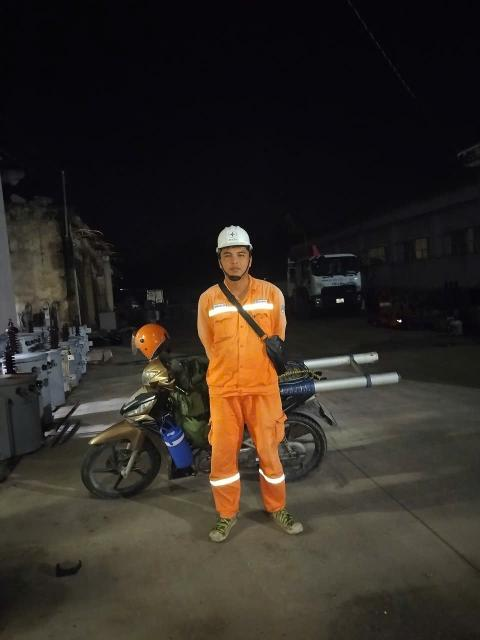helmet: (191, 215, 261, 254)
shoes: (269, 497, 317, 546), (202, 505, 250, 548)
